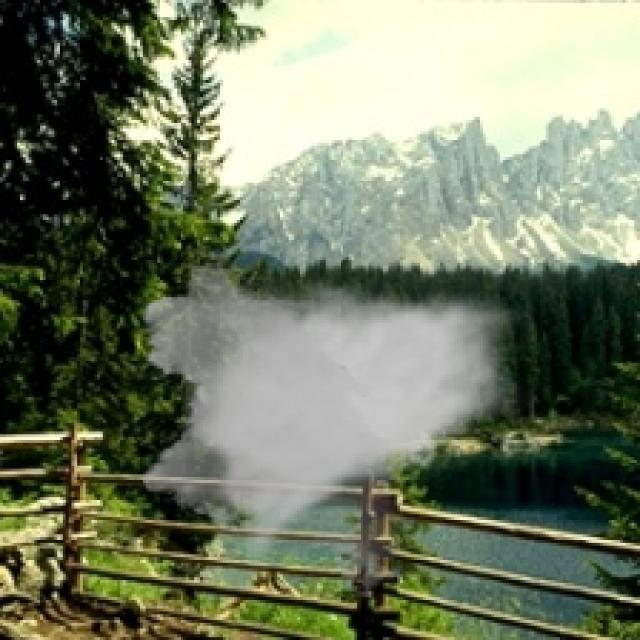Smoke: (132, 251, 528, 600)
